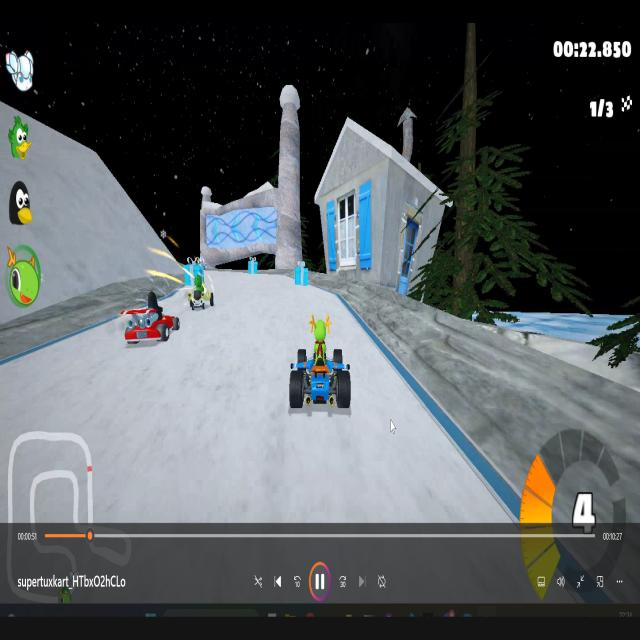bonus: (184, 258, 205, 294), (295, 263, 311, 293), (243, 256, 260, 274)
enemy_kart: (122, 290, 182, 358)
player_kart: (290, 316, 352, 427)
